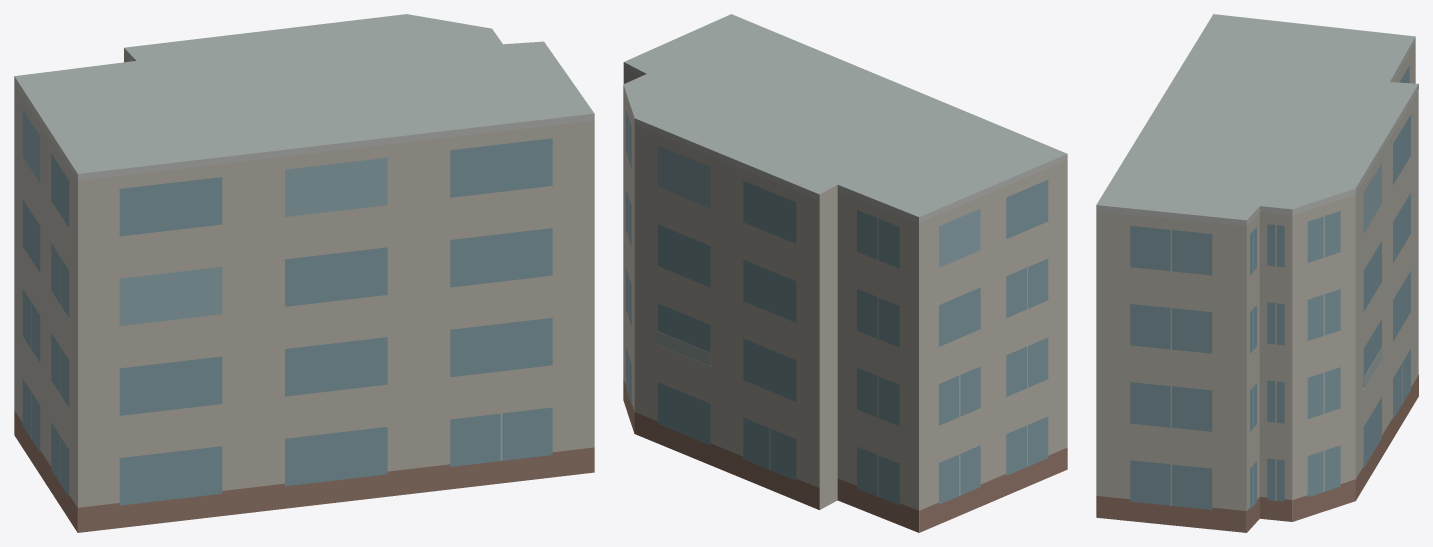
The model's file is survey-upis-32701630.glb.
3 views of the same model, side by side, from view 1: azimuth 30°, elevation 25°; view 2: azimuth 150°, elevation 25°; view 3: azimuth 270°, elevation 25° (orthographic). The views are drawn at different scales.
Visible parts, largest first — view 1: survey-upis-32701630.tmp; view 2: survey-upis-32701630.tmp; view 3: survey-upis-32701630.tmp.
Part boxes in pixels (left/top/right/bottom): survey-upis-32701630.tmp: left=14, top=14, right=594, bottom=532; survey-upis-32701630.tmp: left=623, top=14, right=1067, bottom=532; survey-upis-32701630.tmp: left=1096, top=14, right=1418, bottom=532.
Size of the model in its own units: 18.13 by 12.8 by 11.98.
